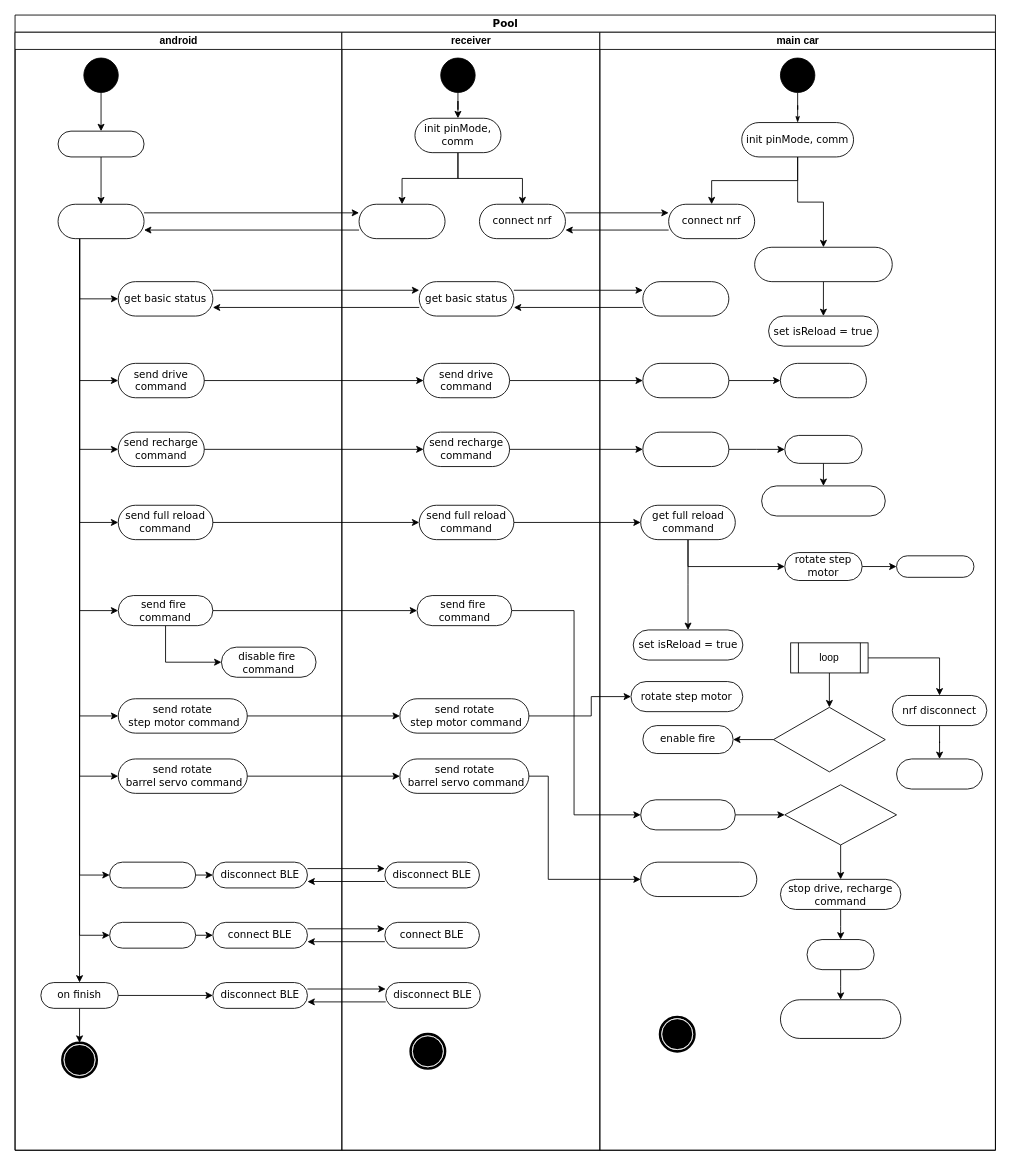
Image size: 1011x1165. Some labels were removed from this diagram. The shapes that lost their labels are listed below. From the top down, each one's centre as x and y in pixels, then its label:
At (100,143): "init".
At (100,221): "scan, connect BLE".
At (401,221): "advertise, connect BLE".
At (823,264): "reload (no rotate step motor)".
At (685,298): "send basic status".
At (685,380): "get drive command".
At (823,380): "conduct drive command".
At (685,449): "get recharge command".
At (823,449): "recharge".
At (823,500): "set isRecharge = true".
At (935,566): "reload".
At (829,739): "isReload && isRecharge".
At (939,773): "stop drive command".
At (687,814): "get fire command".
At (840,814): "fire is enable".
At (152,874): "on stop".
At (698,879): "rotate barrel servo".
At (152,934): "on restart".
At (840,954): "fire".
At (840,1018): "set isRecharge, isReload = false".
